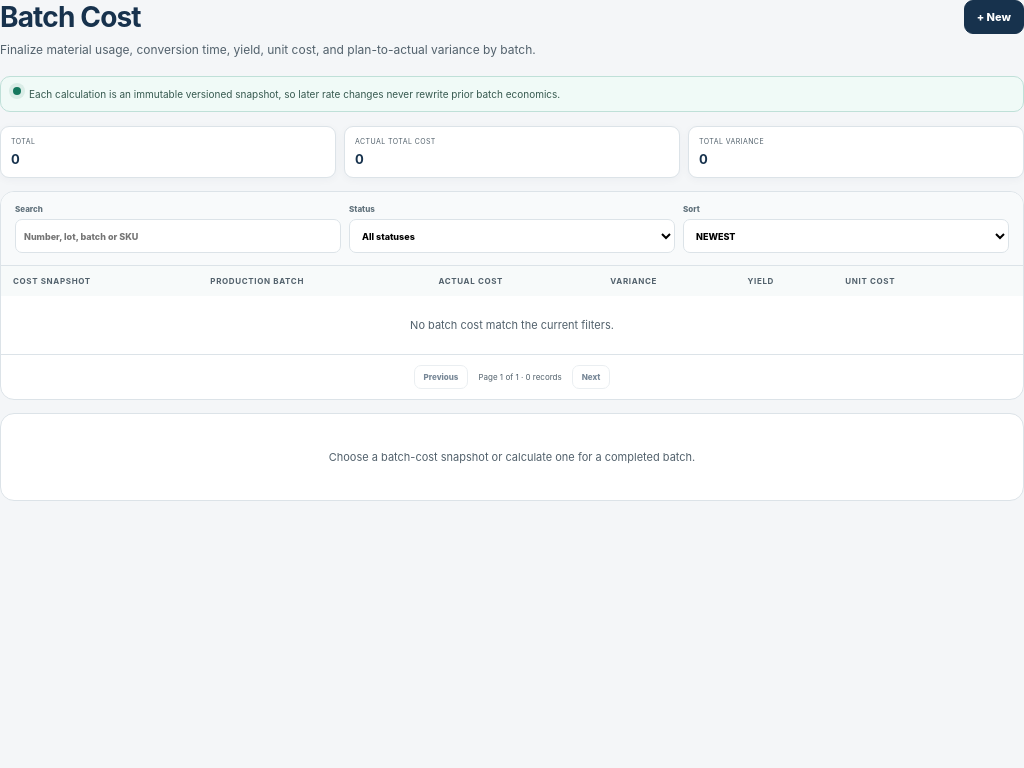
traceability and batch cost workspaces › finalizes and displays material, time, yield and unit-cost variance
Click the button "+ New". click: (994, 17)
box: x1=964 y1=0 x2=1023 y2=34
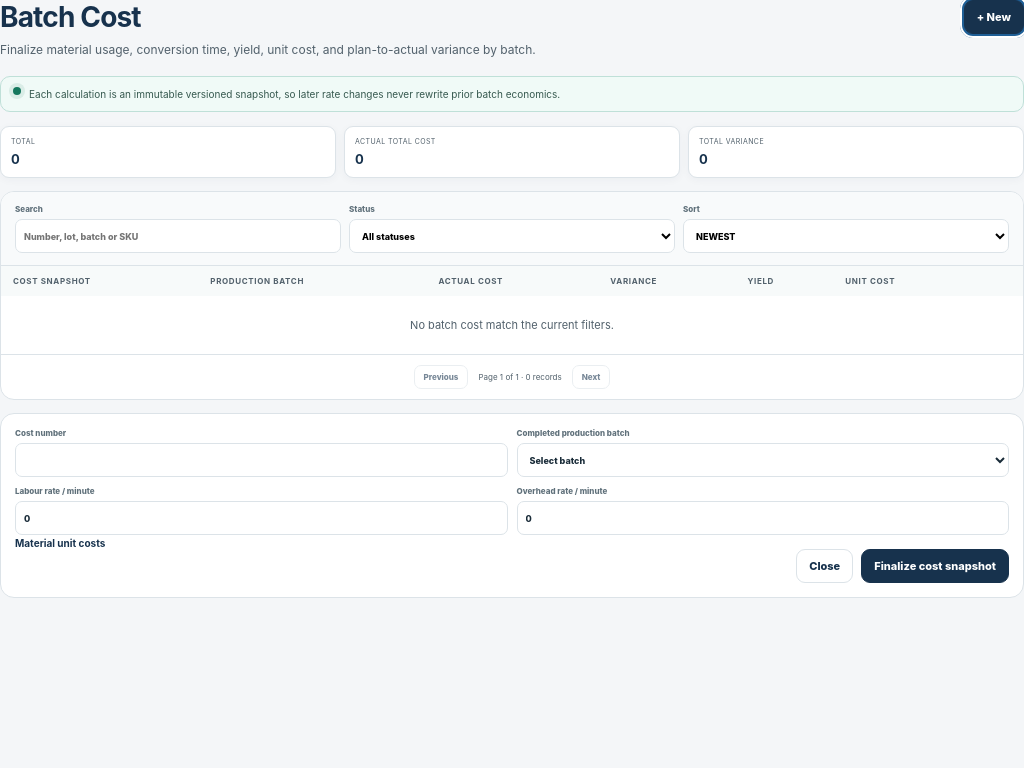
Type "cost-ui-001" into the field labelled "Cost number". click: (261, 460)
box: x1=15 y1=443 x2=508 y2=477
Select "PRO-UI-001 / BATCH-UI-001" in the dropdown named "Cost production batch". click: (763, 460)
box: x1=516 y1=443 x2=1009 y2=477
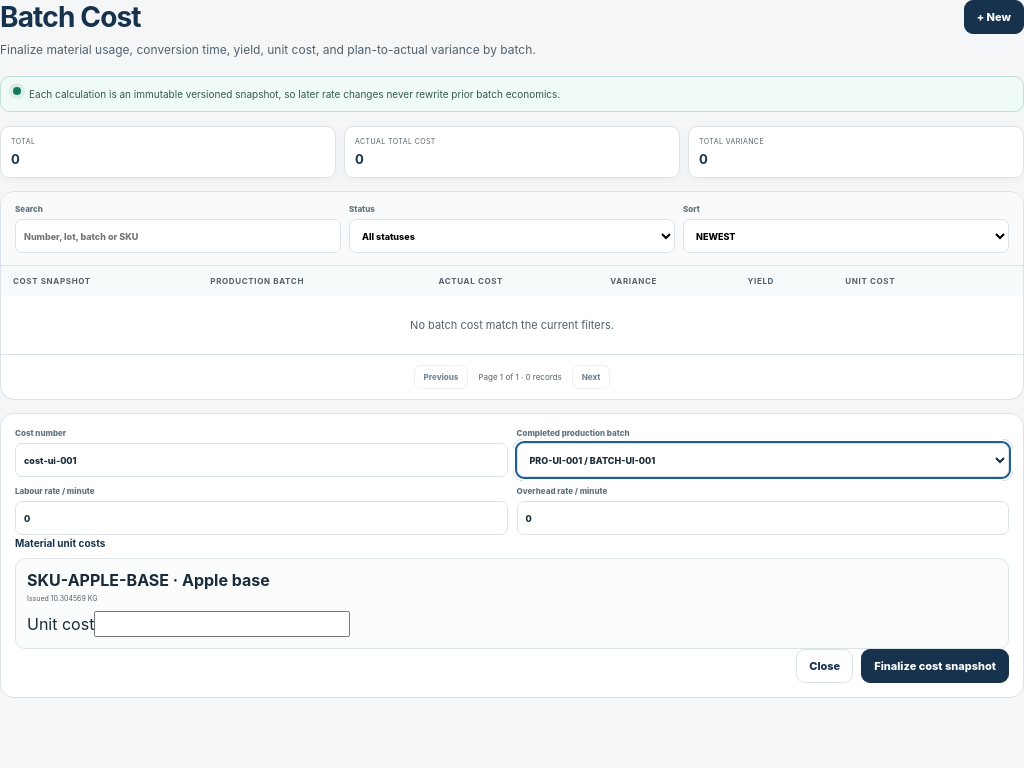
Replace the text in the number field named "Labour rate per minute" with "2.5". click: (261, 518)
box: x1=15 y1=501 x2=508 y2=535
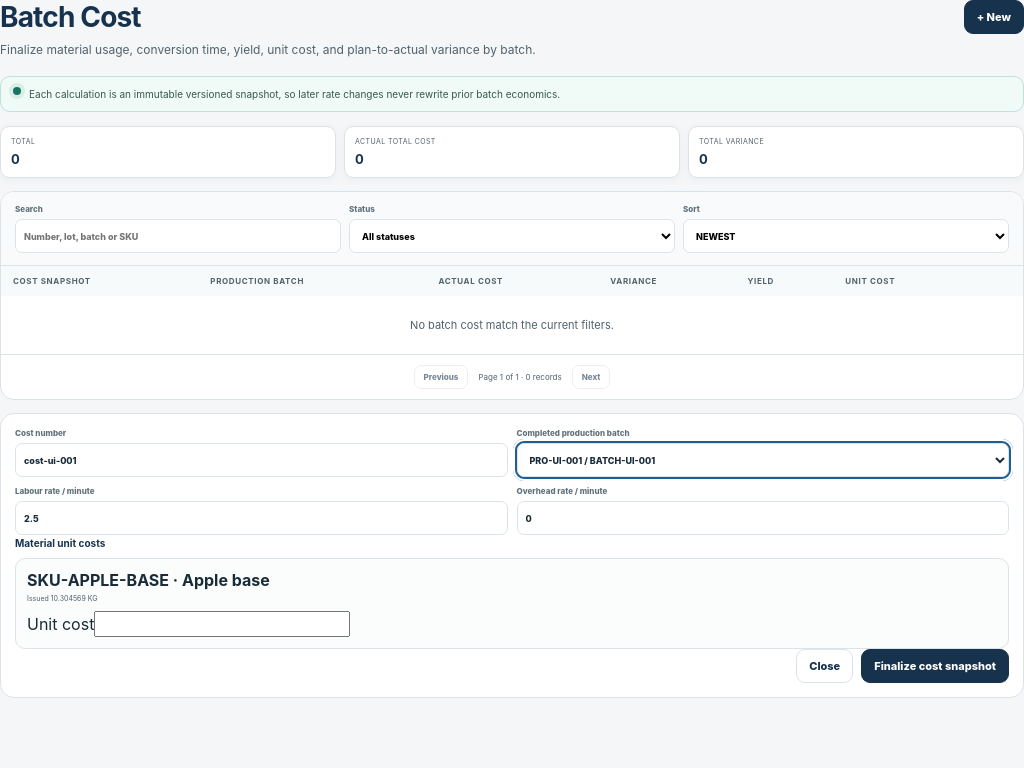
Replace the text in the number field named "Overhead rate per minute" with "1.25". click: (763, 518)
box: x1=516 y1=501 x2=1009 y2=535
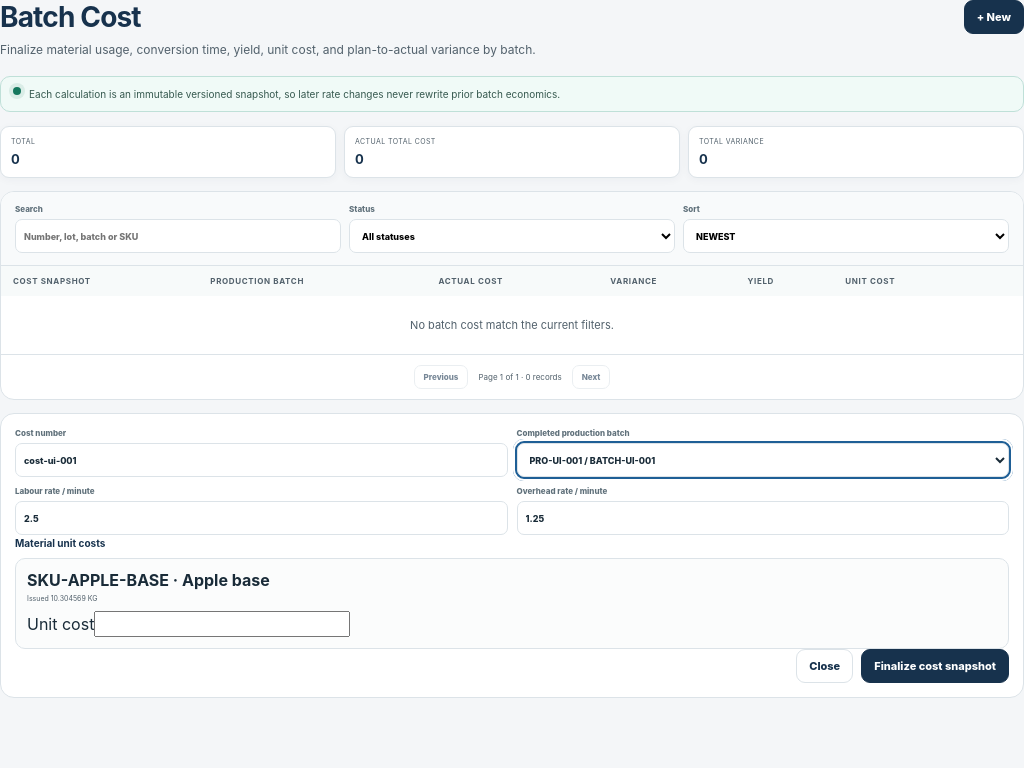
Type "50" into the number field named "SKU-APPLE-BASE unit cost". click: (222, 624)
box: x1=94 y1=611 x2=350 y2=637
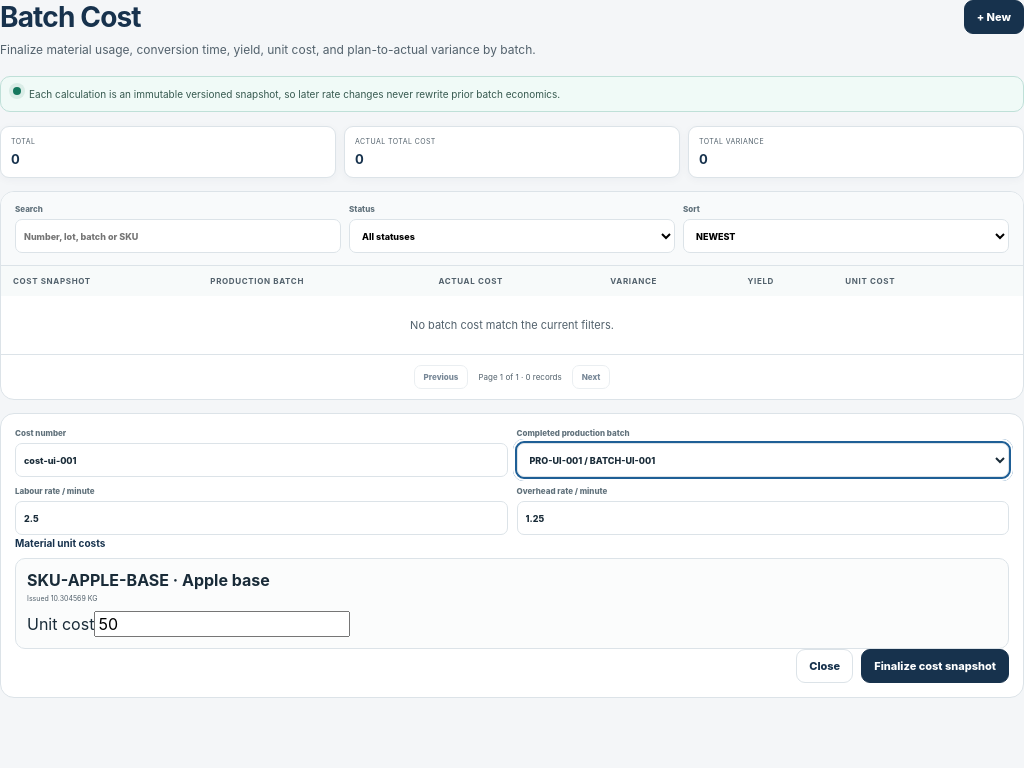
Click the button "Finalize cost snapshot". click: (935, 666)
box: x1=861 y1=649 x2=1009 y2=683
(page scrolled)
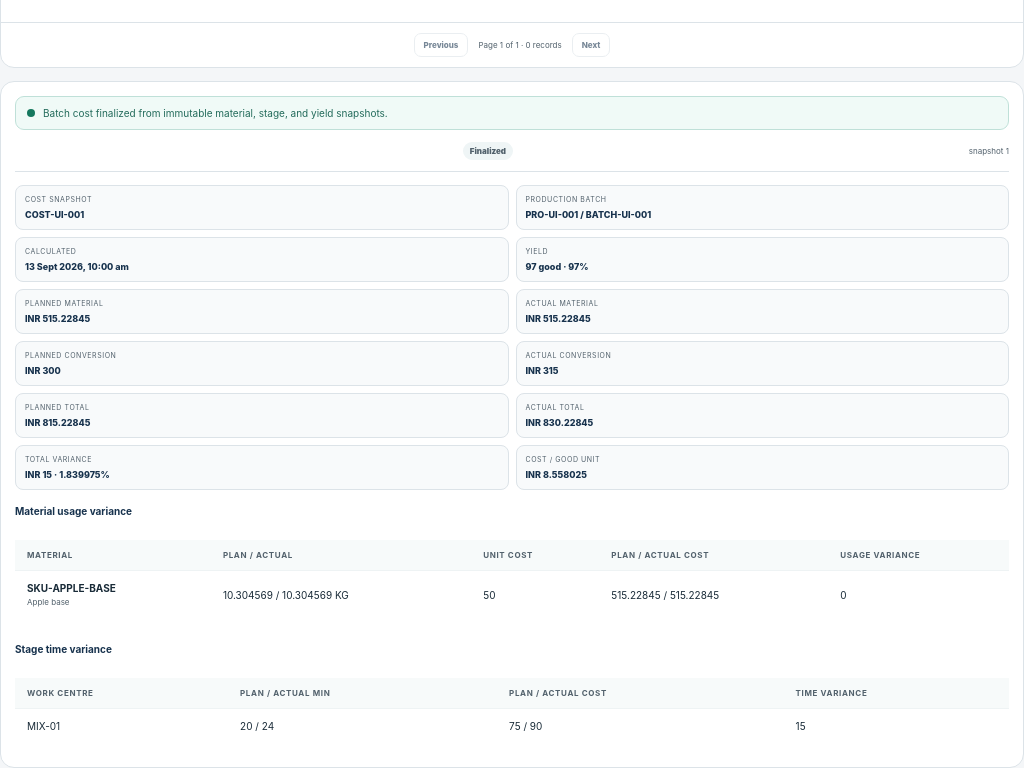
Now the heading "Material usage variance" is shown, box x1=15 y1=505 x2=132 y2=517
Now the heading "Stage time variance" is shown, box x1=15 y1=643 x2=112 y2=655
